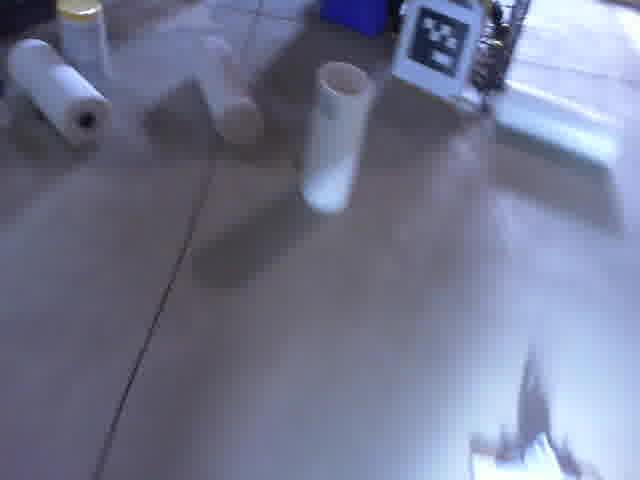coral: (295, 49, 376, 219), (495, 70, 623, 165), (187, 31, 266, 145)
